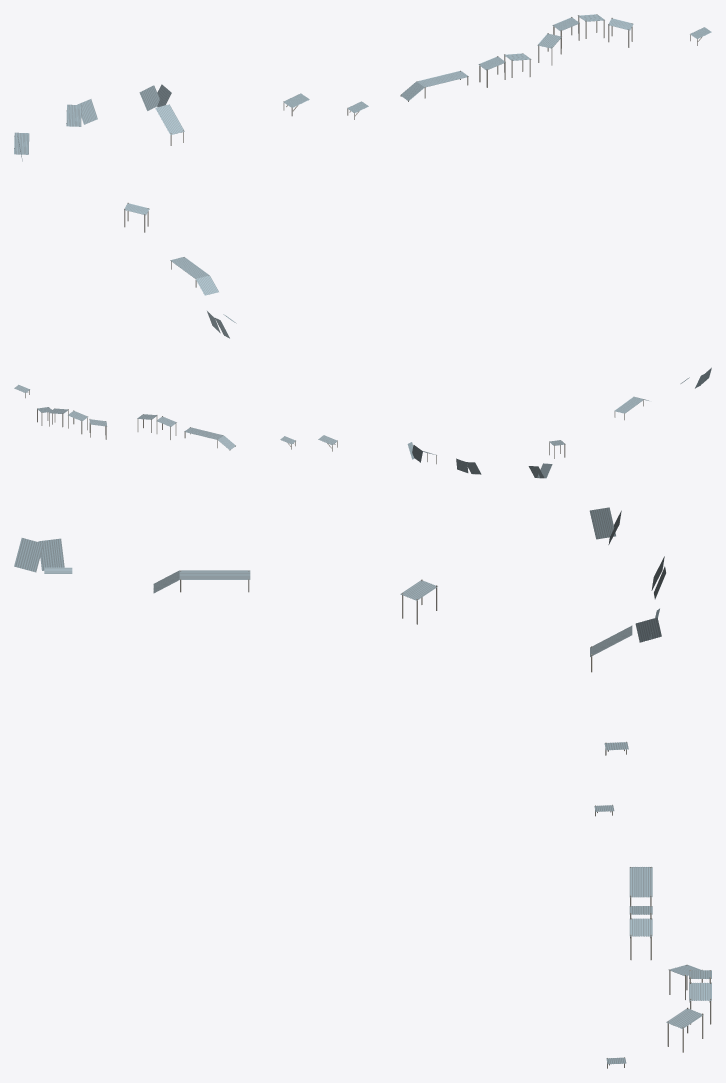
File: SM_Metal_Lvl2.fbx
3 views of the same model, one above another, from view 1: azimuth 30°, elevation 25°; view 2: azimuth 150°, elevation 25°; view 3: azimuth 270°, elevation 25° (orthographic). The views are drawn at different scales.
Visible parts, largest first — view 1: polySurface37; view 2: polySurface37; view 3: polySurface37.
Part boxes in pixels (<box>): polySurface37: <box>14,14,711,338</box>; polySurface37: <box>14,367,711,478</box>; polySurface37: <box>14,507,711,1068</box>.
Size of the model in its own units: 161 by 18.01 by 100.
